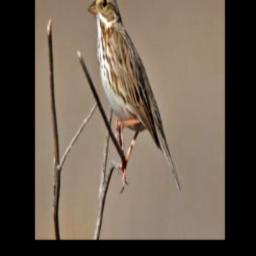Sparrow: (88, 0, 183, 195)
